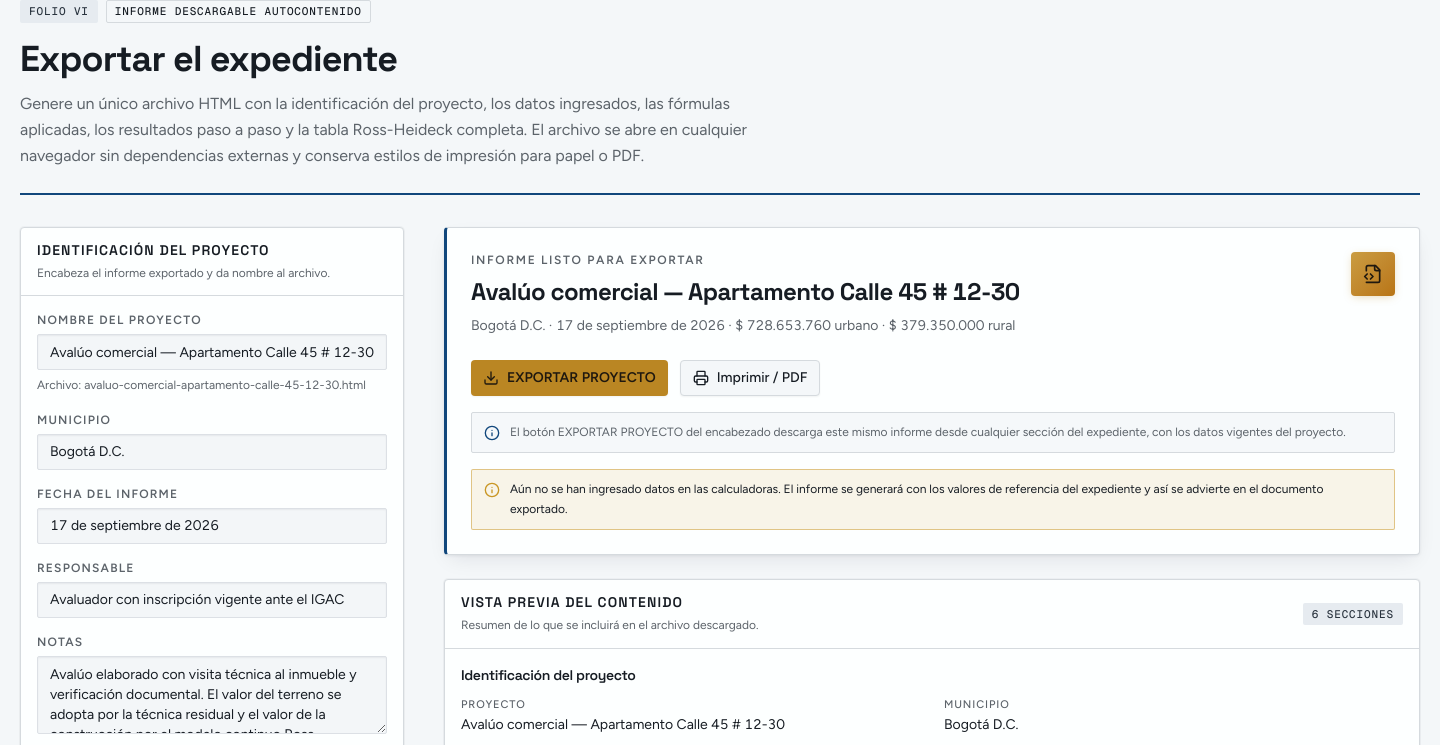
Test: ExportarPage › descarga el informe y muestra la confirmación
Click the button with test id "exportar.download_button".
click(569, 378)  # box [471,360,668,396]
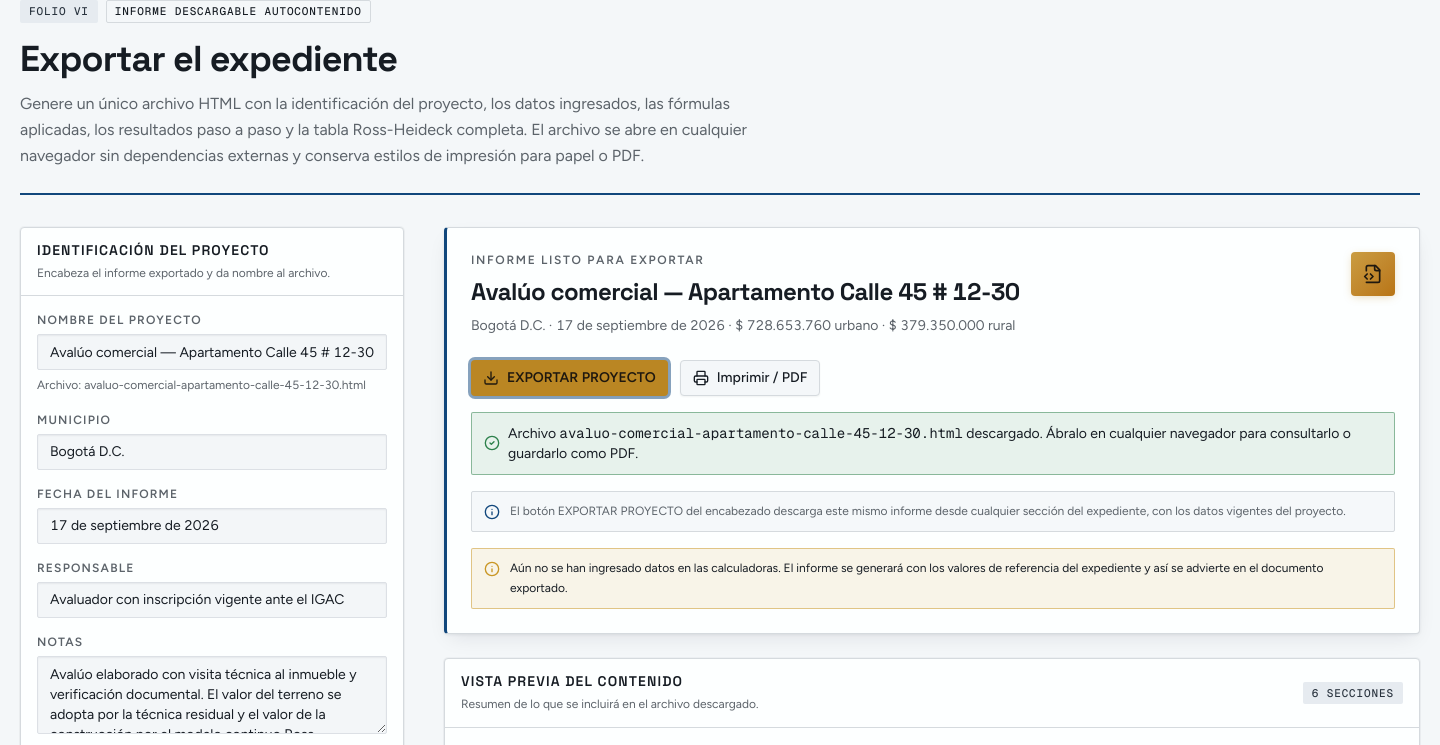
Expected: the text "Archivo: avaluo-comercial-apartamento-calle-45-12-30.html" is shown, [37,376,387,396]
Result: the element with test id "exportar.success_state" is shown at [471,412,1395,474]
